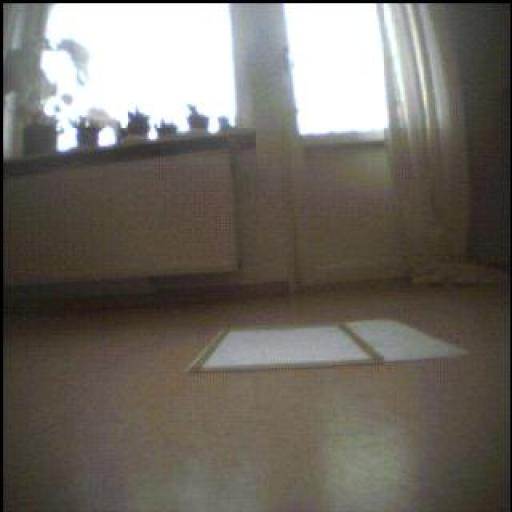Pad: (183, 312, 466, 374)
